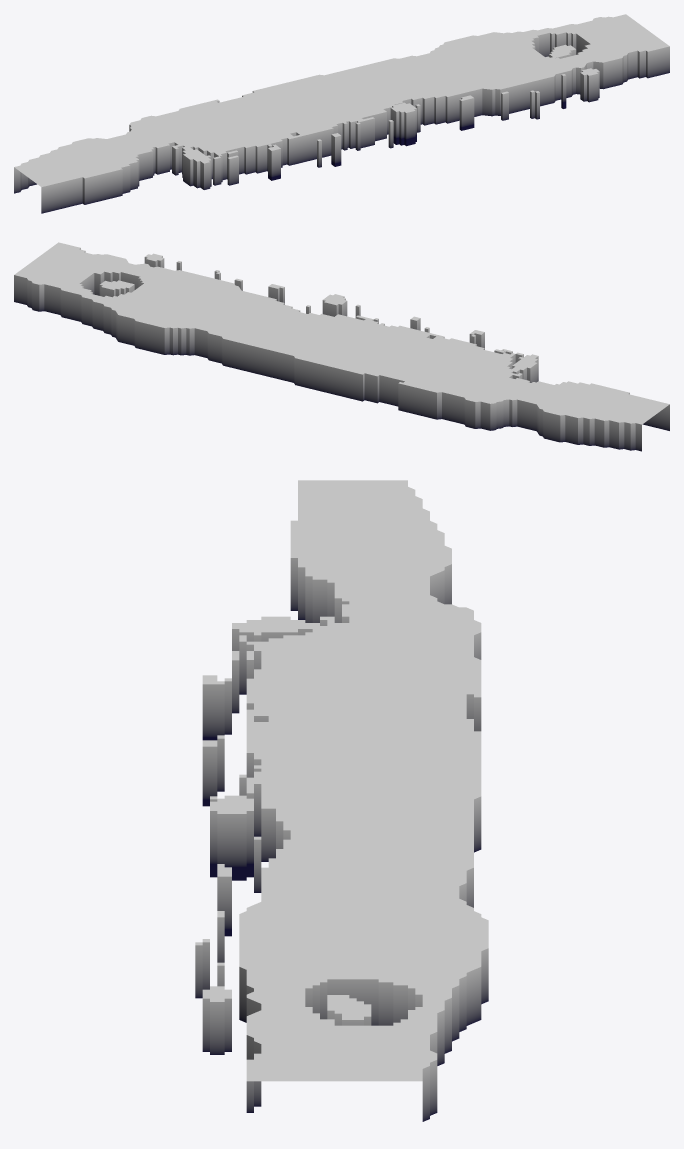
File: BarrensPart3.obj
The picture shows the model from 3 angles, top to bottom: view 1: azimuth 30°, elevation 25°; view 2: azimuth 150°, elevation 25°; view 3: azimuth 270°, elevation 25°; orthographic projection. The views are drawn at different scales.
Visible parts, largest first — view 1: Плоскость.005; view 2: Плоскость.005; view 3: Плоскость.005.
Boxes of the visible parts, x1,y1,x2,y2 form: Плоскость.005: (14, 14, 669, 213); Плоскость.005: (14, 242, 669, 451); Плоскость.005: (195, 480, 488, 1121).
Bounding box in the file's own units: 194 × 11 × 40.
